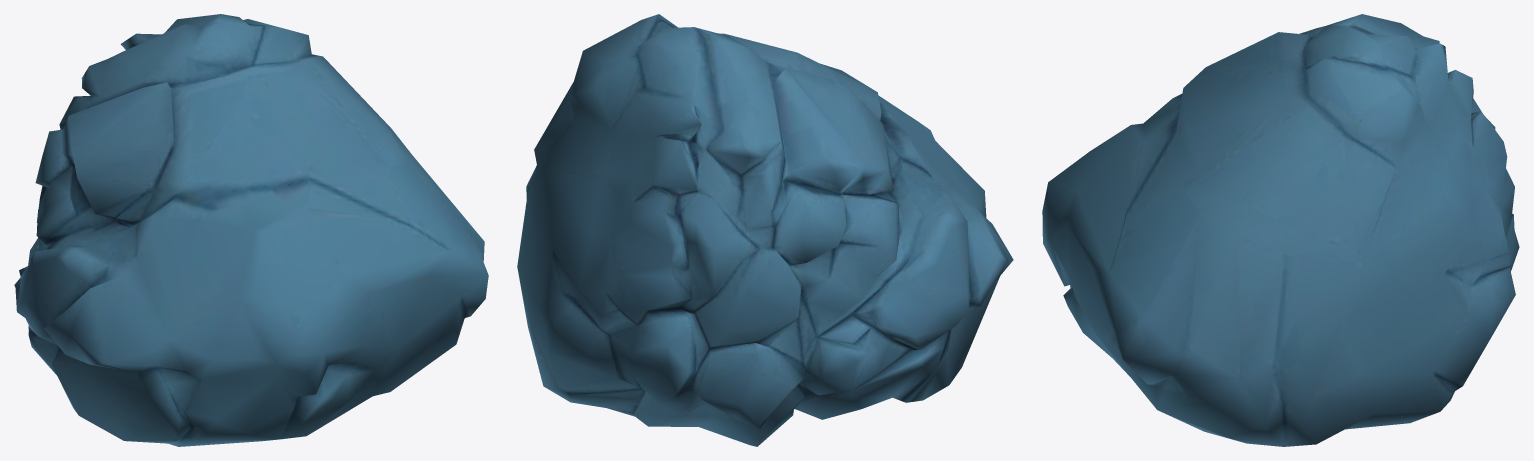
The model's file is res-ore.glb.
The picture shows the model from 3 angles, left to right: view 1: azimuth 30°, elevation 25°; view 2: azimuth 150°, elevation 25°; view 3: azimuth 270°, elevation 25°; orthographic projection. The views are drawn at different scales.
Size of the model in its own units: 0.9604 by 0.7407 by 0.8896.
1 material, 1 textured.
